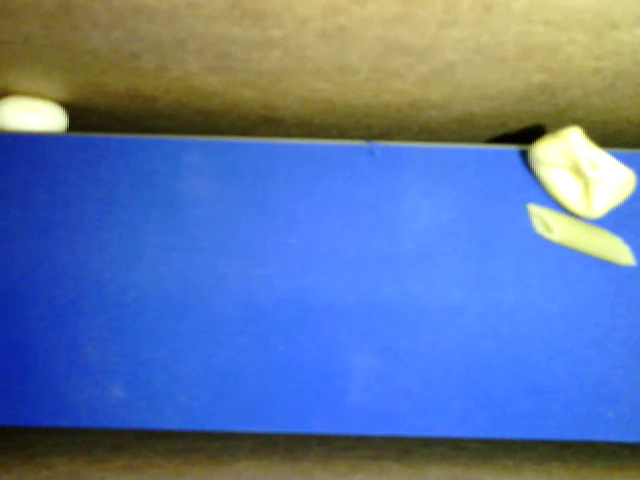penne: (527, 203, 637, 267)
tortellini: (528, 125, 637, 219)
